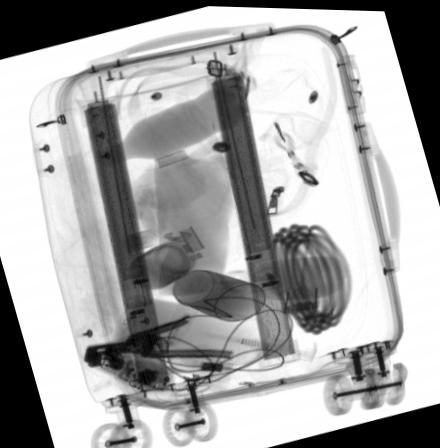Pliers: (86, 312, 233, 364)
